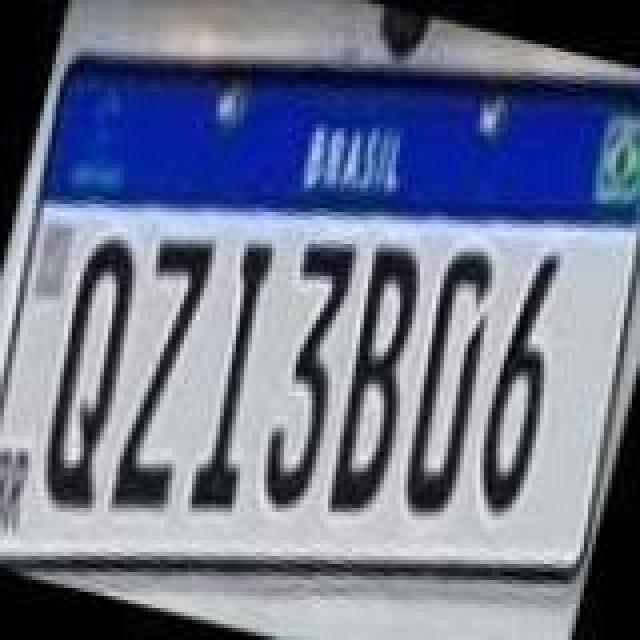3: (240, 224, 376, 520)
6: (458, 234, 586, 526)
B: (304, 234, 444, 534)
D: (378, 234, 514, 530)
I: (176, 230, 300, 526)
Q: (20, 224, 164, 520)
Z: (94, 224, 234, 524)
